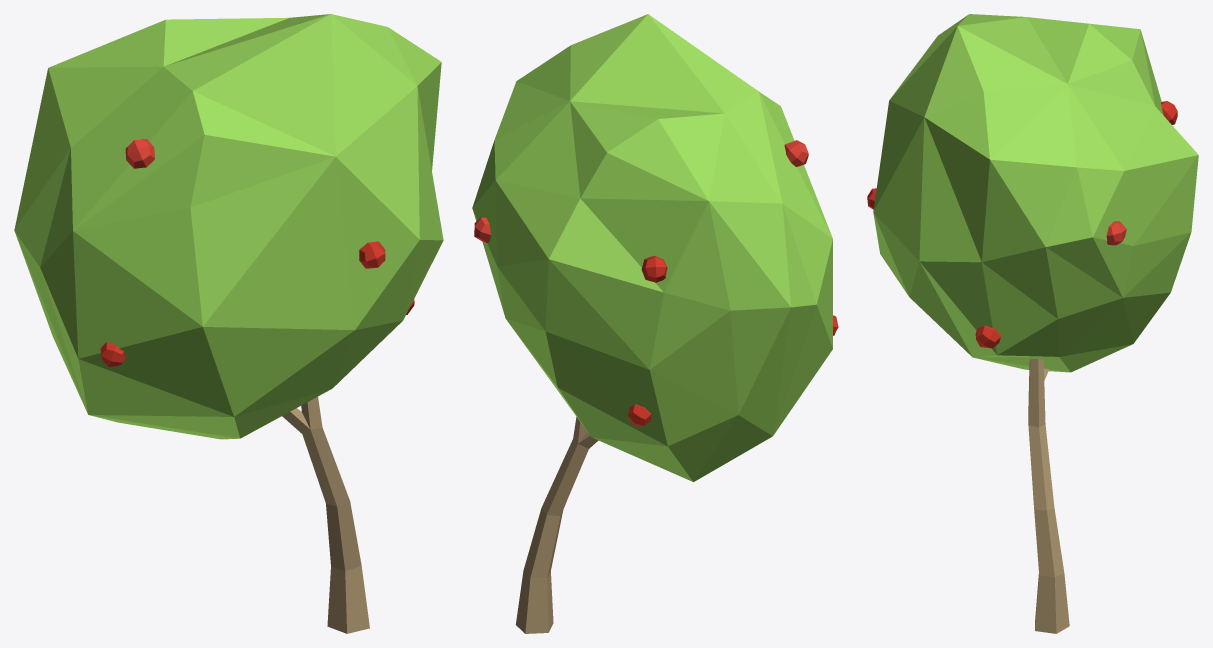
File: Apple_Tree_Apples_m_05_LOD.fbx
The picture shows the model from 3 angles, left to right: view 1: azimuth 30°, elevation 25°; view 2: azimuth 150°, elevation 25°; view 3: azimuth 270°, elevation 25°; orthographic projection. The views are drawn at different scales.
Visible parts, largest first — view 1: Apple_Tree_Apples_m_05_LOD0; view 2: Apple_Tree_Apples_m_05_LOD0; view 3: Apple_Tree_Apples_m_05_LOD0.
Boxes of the visible parts, x1=… form: Apple_Tree_Apples_m_05_LOD0: x1=14, y1=14, x2=443, y2=633; Apple_Tree_Apples_m_05_LOD0: x1=472, y1=14, x2=838, y2=633; Apple_Tree_Apples_m_05_LOD0: x1=867, y1=14, x2=1198, y2=633.
Size of what is drawn, in the model's own units: 436 by 752 by 396.
